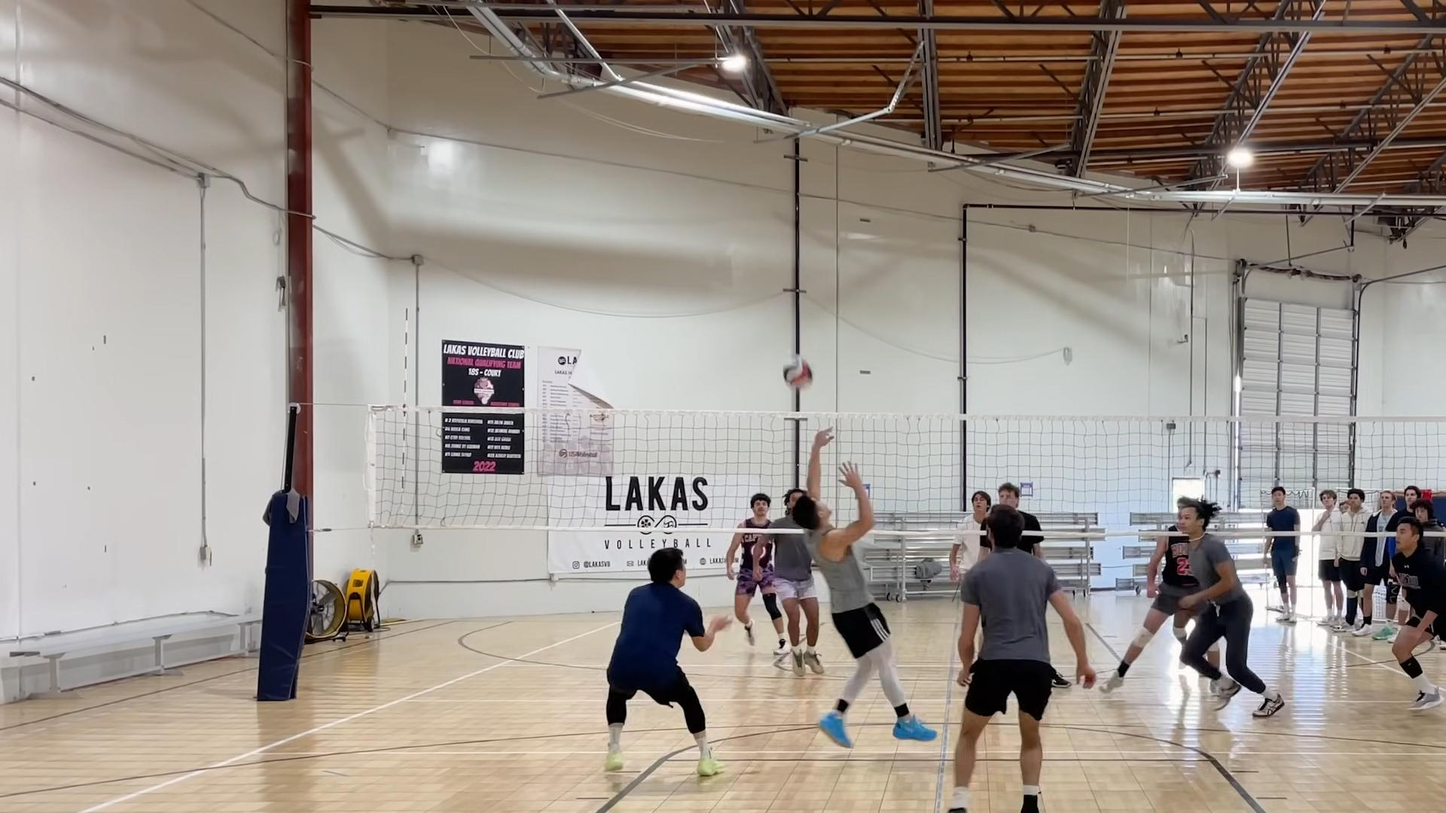Attack: (785, 462, 914, 753)
Player: (949, 506, 1095, 812), (606, 549, 730, 776), (1176, 499, 1284, 716), (1101, 525, 1199, 693), (1392, 491, 1445, 710), (725, 493, 788, 656), (951, 490, 991, 582), (998, 483, 1045, 559), (998, 483, 1044, 559), (770, 488, 807, 528)
ball: (781, 353, 814, 393)
